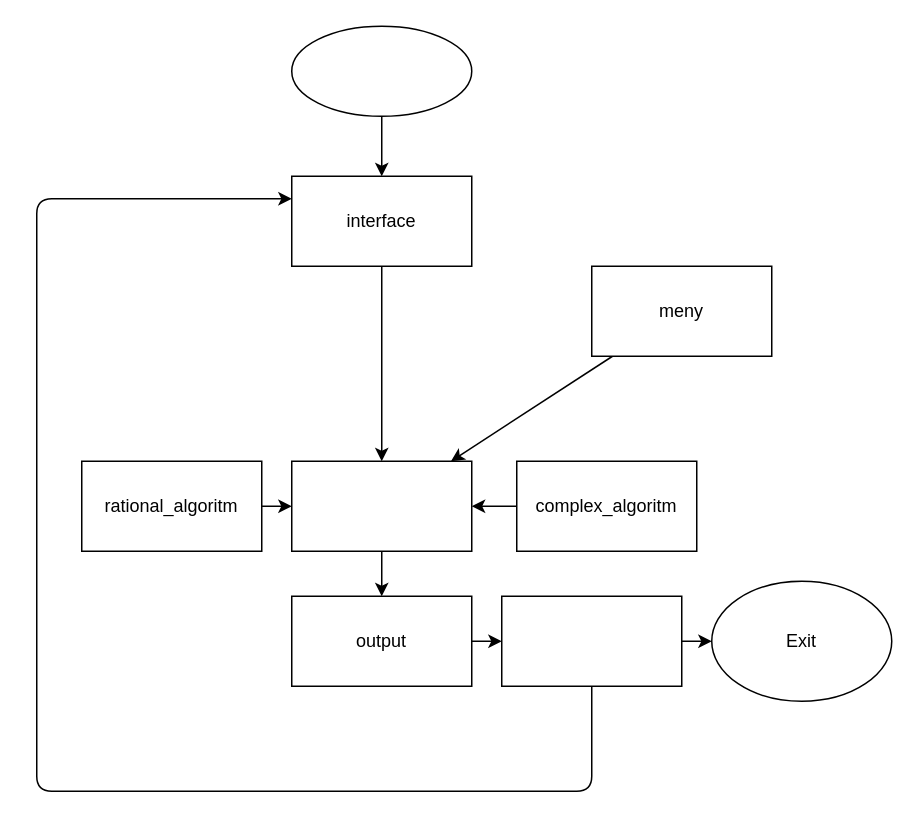
Some shapes in this 918 by 830 pixel diagram are drawn without their labels. The shapes that lost their labels are listed below. From the top down, each one's box as (x1, y1, x2, y2) in pixels, then its label:
(290, 25, 472, 116): start
(290, 460, 472, 551): algoritm
(500, 595, 682, 686): logger
